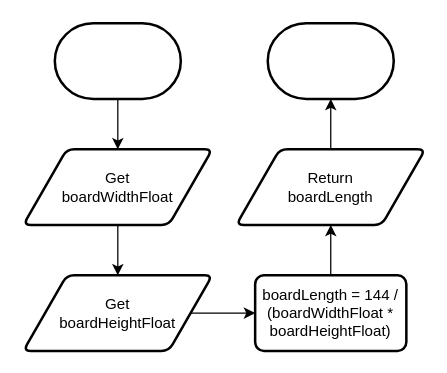
Image size: 447x373. Some labels were removed from this diagram. Here are the shapes that lost their labels. From the top down, the centre of each, then its label:
the point at 117,60: Start
the point at 330,60: Stop
